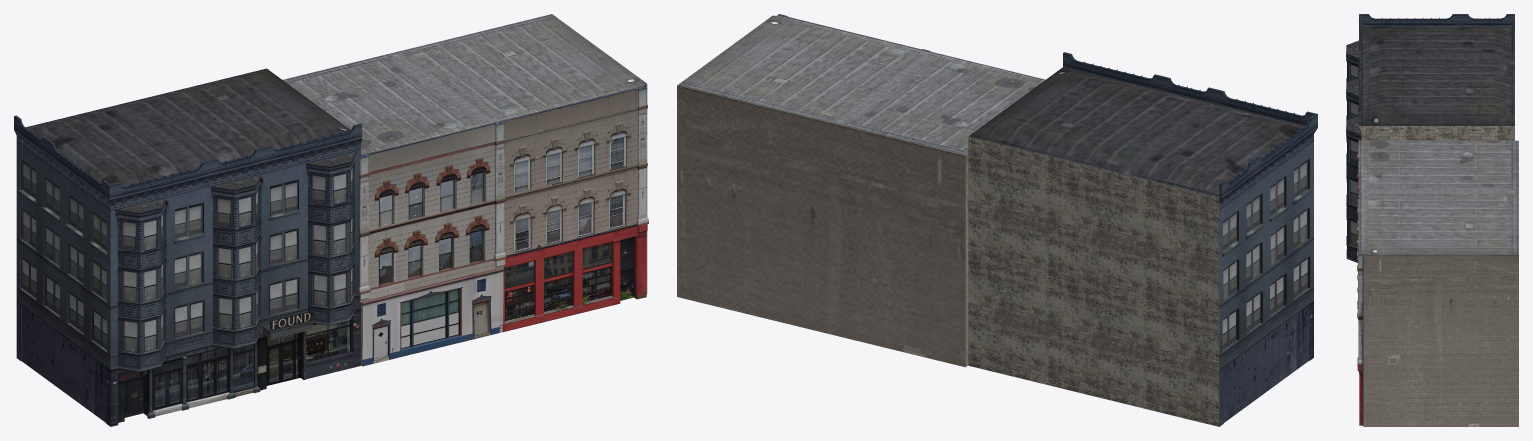
Rendered from chicago_00.gltf.
3 views of the same model, side by side, from view 1: azimuth 30°, elevation 25°; view 2: azimuth 150°, elevation 25°; view 3: azimuth 270°, elevation 25° (orthographic). The views are drawn at different scales.
Parts seen in each view (by area): view 1: chicago_00; view 2: chicago_00; view 3: chicago_00.
Part boxes in pixels (box(x1,y1,x2,y2)): chicago_00: box(14, 14, 648, 426); chicago_00: box(677, 14, 1317, 426); chicago_00: box(1346, 14, 1518, 426).
Size of the model in its own units: 41.6 by 17.84 by 14.12.
4 materials, 4 textured.
